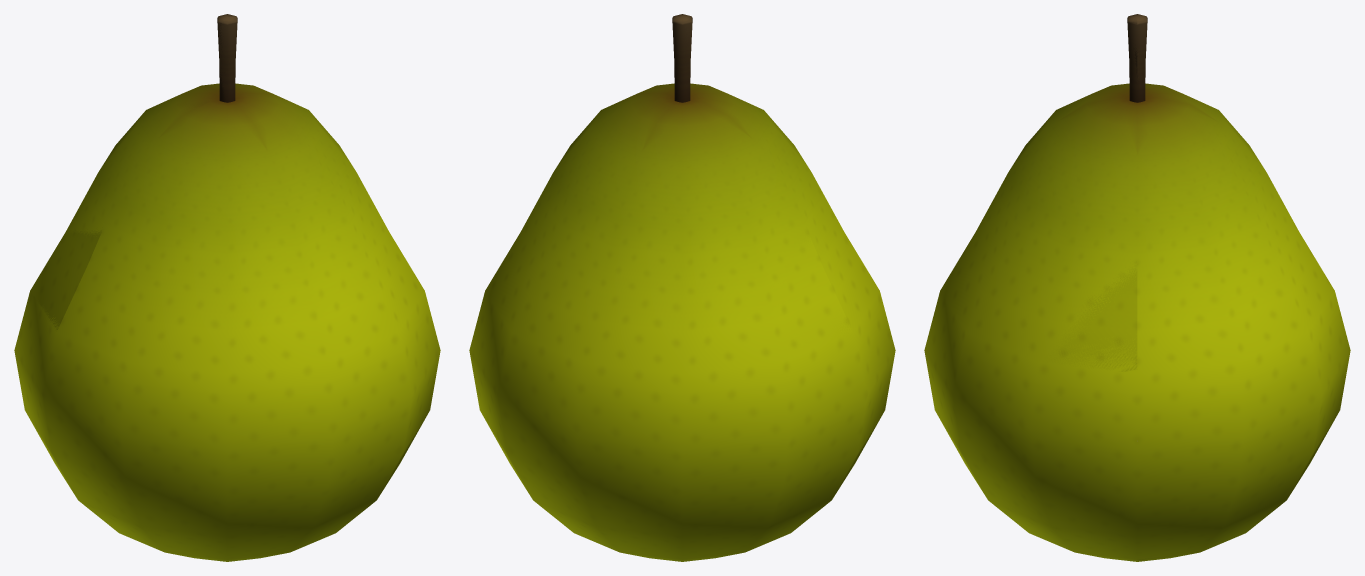
The model's file is Pear.fbx.
The picture shows the model from 3 angles, left to right: view 1: azimuth 30°, elevation 25°; view 2: azimuth 150°, elevation 25°; view 3: azimuth 270°, elevation 25°; orthographic projection.
Parts seen in each view (by area): view 1: Pear_Whole, Pear_Half_Front, Pear_Half_Back; view 2: Pear_Whole, Pear_Half_Front; view 3: Pear_Whole, Pear_Half_Back, Pear_Half_Front.
Part boxes in pixels (left/top/right/bottom): Pear_Whole: left=14, top=14, right=440, bottom=561; Pear_Half_Front: left=30, top=14, right=235, bottom=329; Pear_Half_Back: left=217, top=16, right=405, bottom=327; Pear_Whole: left=469, top=14, right=895, bottom=561; Pear_Half_Front: left=672, top=16, right=851, bottom=361; Pear_Whole: left=924, top=14, right=1350, bottom=561; Pear_Half_Back: left=968, top=14, right=1137, bottom=441; Pear_Half_Front: left=1137, top=18, right=1198, bottom=561.
Bounding box in the file's own units: 1.5 × 2.04 × 1.5.
